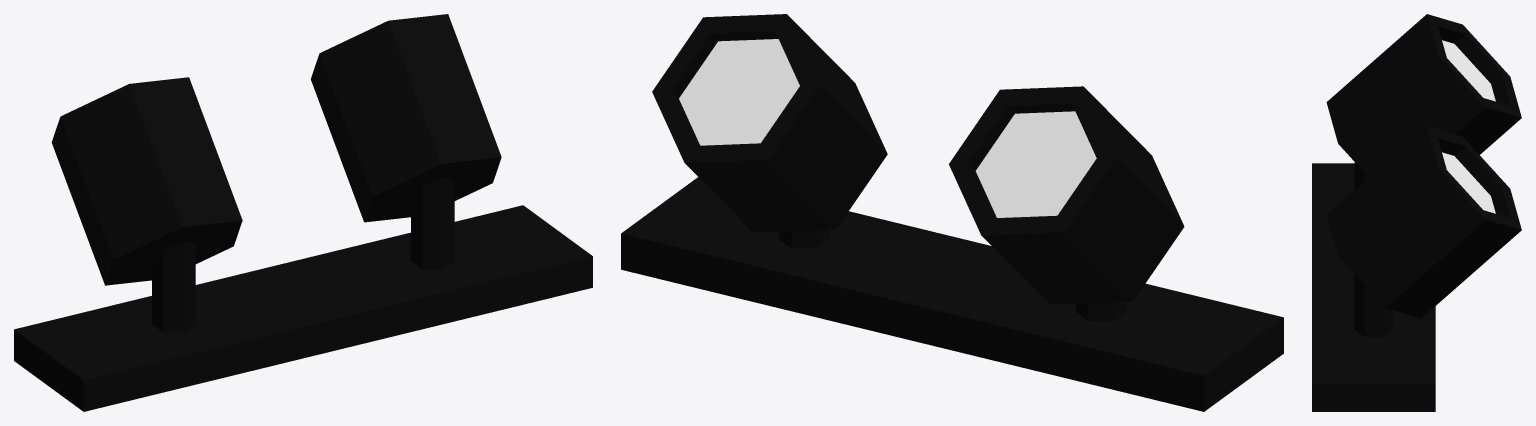
File: spotlights.glb
3 views of the same model, side by side, from view 1: azimuth 30°, elevation 25°; view 2: azimuth 150°, elevation 25°; view 3: azimuth 270°, elevation 25° (orthographic). The views are drawn at different scales.
Visible parts, largest first — view 1: Plane.002, Cylinder.001, Cylinder; view 2: Plane.002, Cylinder, Cylinder.001; view 3: Cylinder, Cylinder.001, Plane.002.
Part boxes in pixels (x1,y1,x2,y2): Plane.002: [14, 205, 592, 411]; Cylinder.001: [51, 77, 242, 332]; Cylinder: [310, 14, 501, 269]; Plane.002: [621, 177, 1283, 411]; Cylinder: [652, 14, 887, 248]; Cylinder.001: [949, 86, 1184, 320]; Cylinder: [1326, 126, 1521, 336]; Cylinder.001: [1326, 14, 1521, 189]; Plane.002: [1312, 163, 1435, 411].
Size of the model in its own units: 3.93 by 1.87 by 1.58.
1 material, 1 textured.
